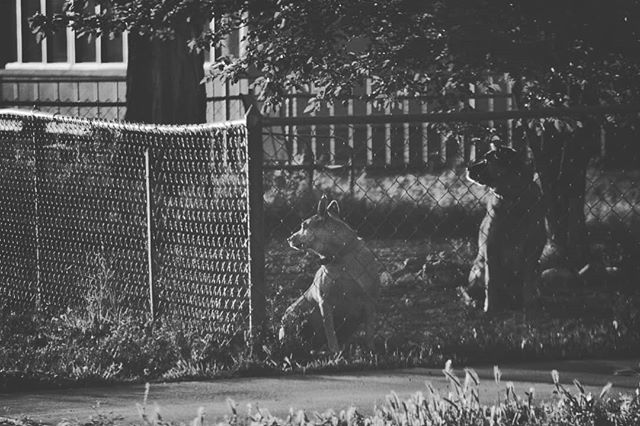animal: (278, 194, 382, 347), (455, 137, 543, 314)
sidewalk: (17, 356, 640, 426)
tree: (346, 1, 608, 241)
